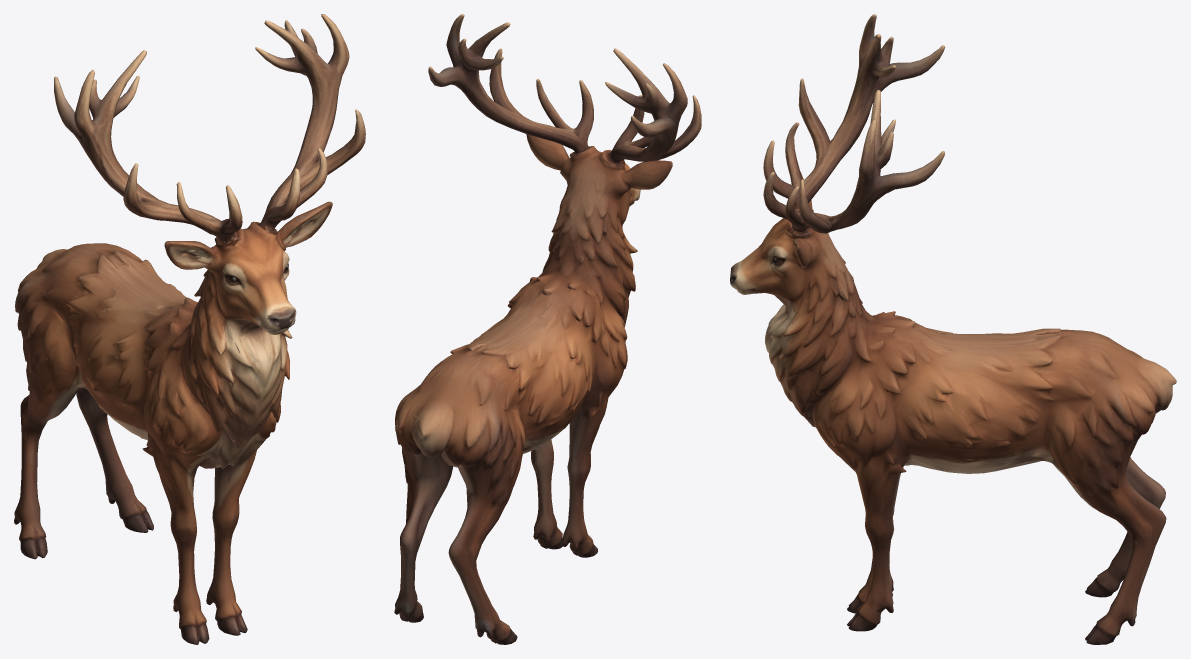
Rendered from Stag_clean.glb.
3 renders of one model, left to right at view 1: azimuth 30°, elevation 25°; view 2: azimuth 150°, elevation 25°; view 3: azimuth 270°, elevation 25°, orthographic. The views are drawn at different scales.
Parts seen in each view (by area): view 1: Stag; view 2: Stag; view 3: Stag.
Boxes of the visible parts, x1,y1,x2,y2 form: Stag: (14, 14, 365, 644); Stag: (394, 14, 701, 644); Stag: (730, 14, 1176, 644).
Bounding box in the file's own units: 0.9167 × 1.9 × 1.38.
1 material, 1 textured.
